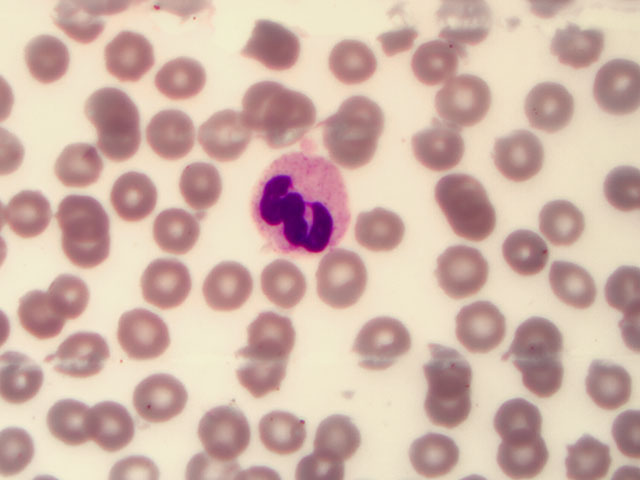RBC: (17, 31, 80, 91), (96, 28, 159, 88), (151, 51, 214, 111), (82, 75, 145, 135), (89, 116, 152, 176), (41, 130, 104, 190), (47, 179, 110, 239), (52, 214, 115, 274), (8, 189, 71, 249), (47, 266, 110, 326), (14, 288, 77, 348), (45, 324, 108, 384), (6, 352, 69, 412), (34, 385, 97, 445), (76, 395, 139, 455), (125, 369, 188, 429), (116, 295, 179, 355), (134, 249, 197, 309), (147, 196, 210, 256), (108, 167, 171, 227), (166, 151, 229, 211), (142, 105, 205, 165), (200, 103, 263, 163), (228, 74, 291, 134), (255, 92, 318, 152), (325, 122, 388, 182), (327, 83, 390, 143), (324, 32, 387, 92), (252, 15, 315, 75), (407, 34, 470, 94), (421, 63, 484, 123), (411, 117, 474, 177), (414, 149, 477, 209), (441, 192, 504, 252), (488, 117, 551, 177), (517, 67, 580, 127), (577, 61, 640, 121), (577, 156, 640, 216), (541, 197, 604, 257), (478, 222, 541, 282), (532, 247, 595, 307), (438, 248, 501, 308), (443, 297, 506, 357), (509, 304, 572, 364), (511, 345, 574, 405), (577, 356, 640, 416), (487, 390, 550, 450), (491, 420, 554, 480), (400, 420, 463, 480), (419, 373, 482, 433), (419, 338, 482, 398), (350, 311, 413, 371), (316, 247, 379, 307), (350, 207, 413, 267), (255, 252, 318, 312), (206, 257, 269, 317), (242, 294, 305, 354), (232, 340, 295, 400), (194, 403, 257, 463), (242, 400, 305, 460), (300, 409, 363, 469)
WBC: (253, 152, 353, 256)
